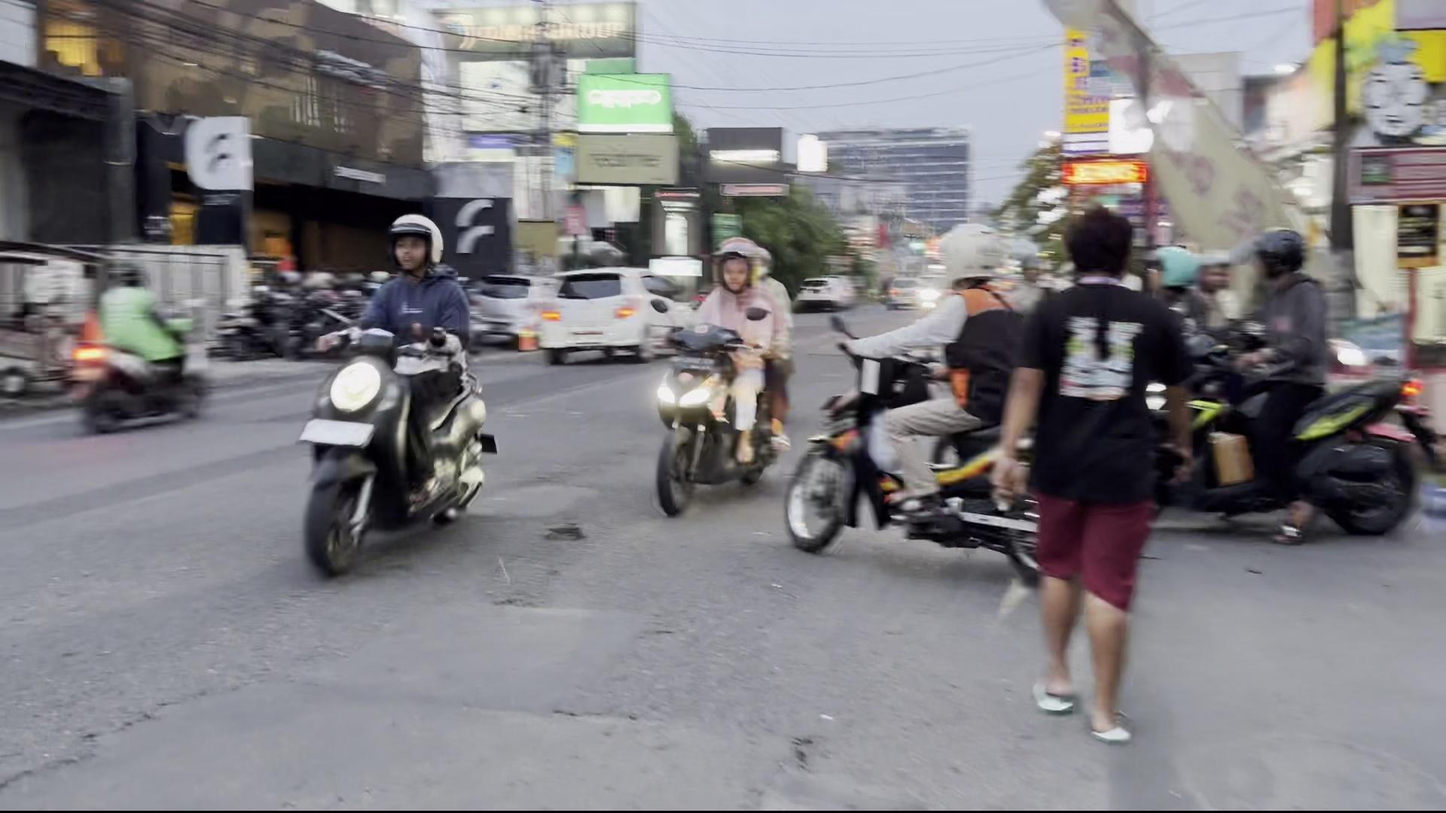helm: (386, 211, 446, 280)
riding: (299, 210, 504, 584)
